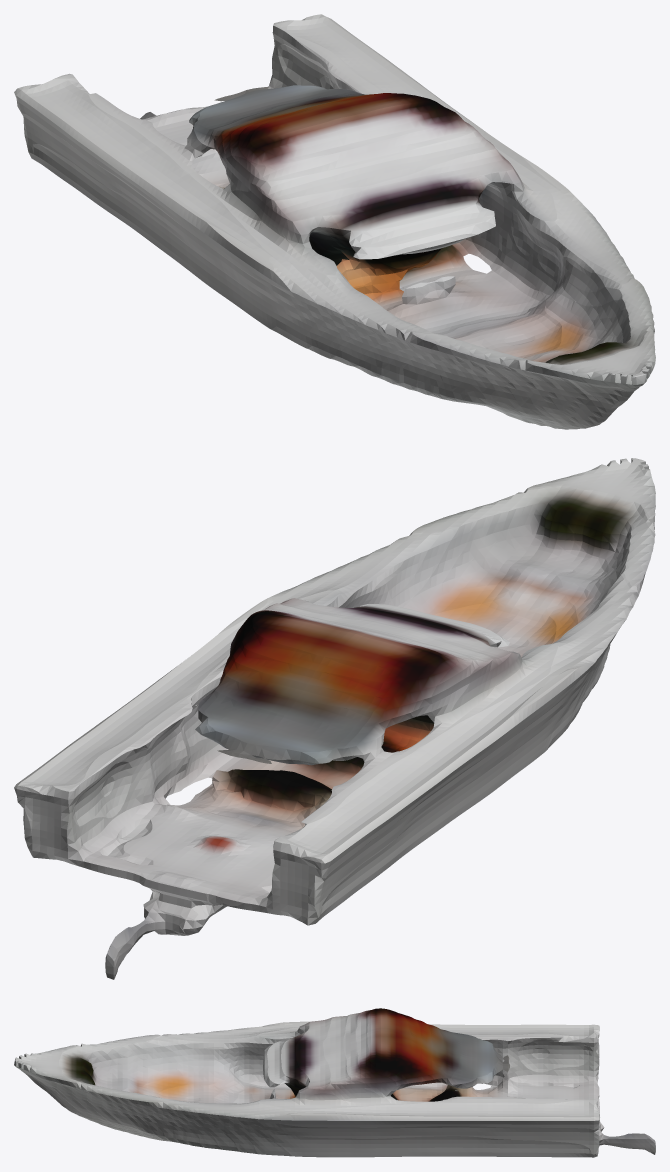
Rendered from speed_boat.glb.
The picture shows the model from 3 angles, top to bottom: view 1: azimuth 30°, elevation 25°; view 2: azimuth 150°, elevation 25°; view 3: azimuth 270°, elevation 25°; orthographic projection. The views are drawn at different scales.
Parts seen in each view (by area): view 1: tmp45elaot6.ply; view 2: tmp45elaot6.ply; view 3: tmp45elaot6.ply.
Part boxes in pixels (left/top/right/bottom): tmp45elaot6.ply: left=14, top=14, right=655, bottom=429; tmp45elaot6.ply: left=14, top=458, right=655, bottom=979; tmp45elaot6.ply: left=14, top=1008, right=655, bottom=1157.
Size of the model in its own units: 0.6923 by 0.398 by 1.96.
